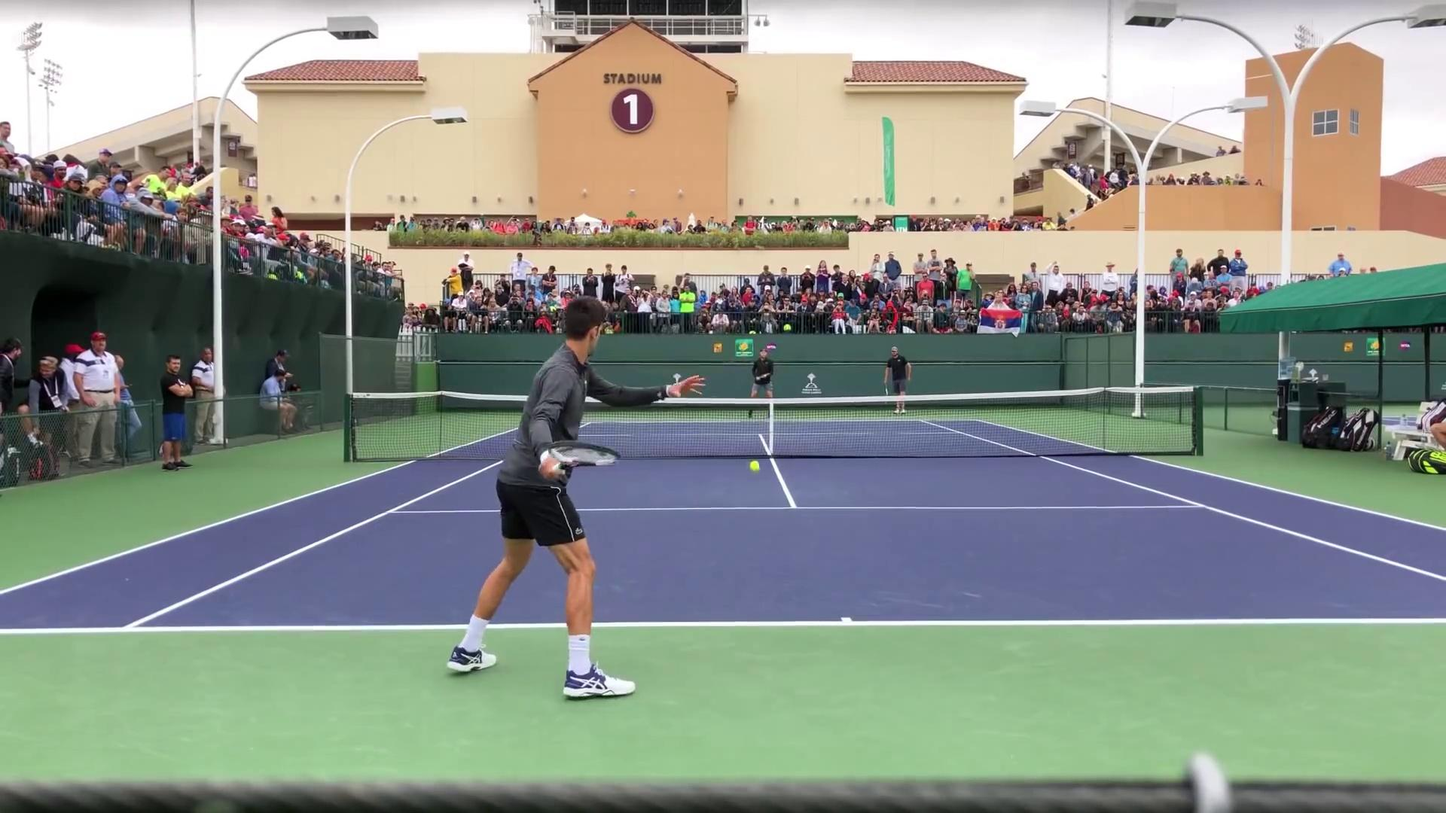ball: (749, 460, 763, 473)
